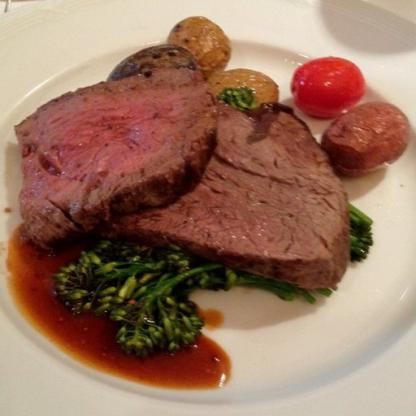beef: (103, 97, 345, 296), (8, 67, 215, 246)
tomato: (291, 50, 366, 118)
